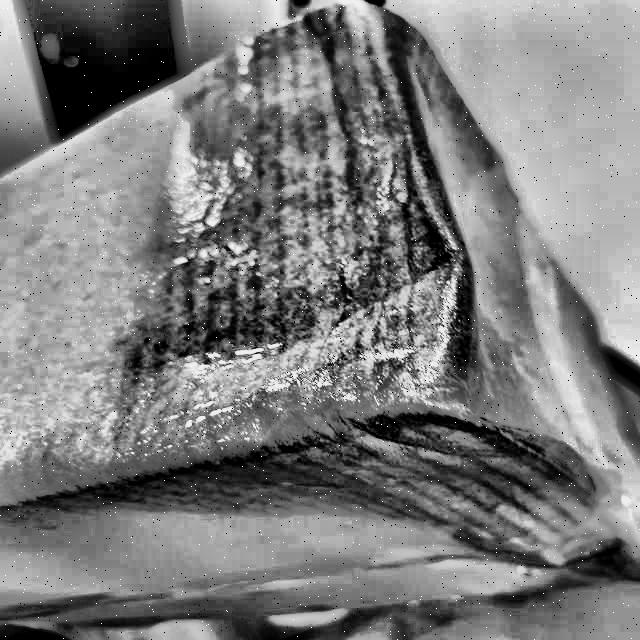box: (0, 2, 639, 637)
wet: (123, 4, 598, 558)
